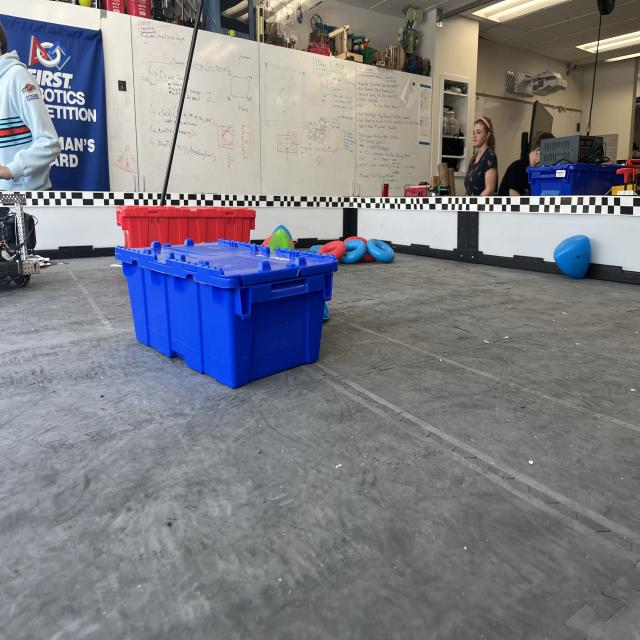Blue-Ring: (366, 238, 395, 263), (340, 238, 366, 263)
Red-Ring: (319, 240, 346, 260)
